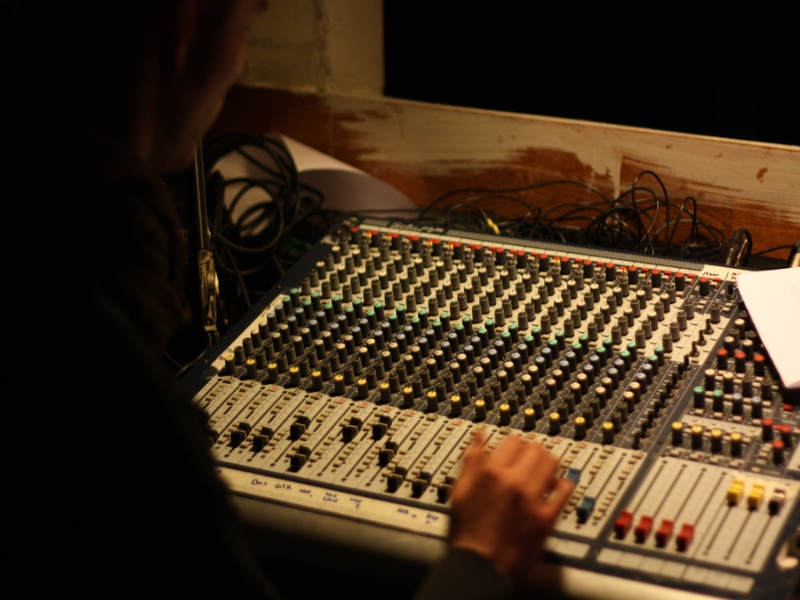person: (3, 1, 251, 318)
